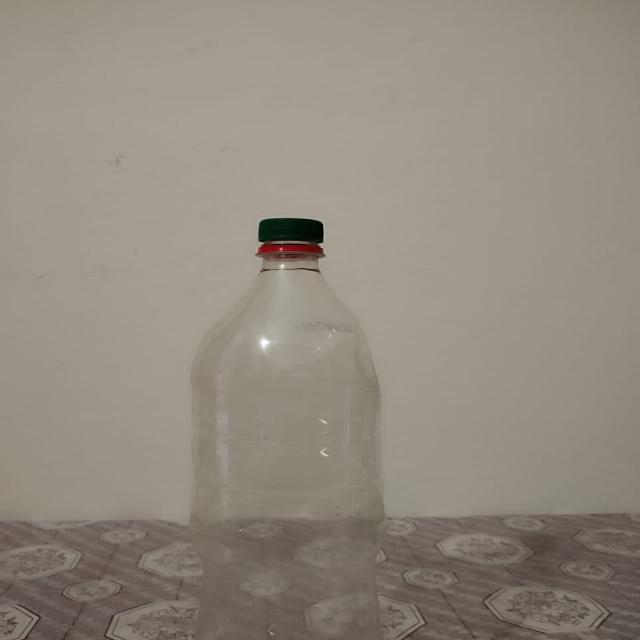bottle: (198, 216, 388, 640)
cap: (258, 216, 323, 256)
